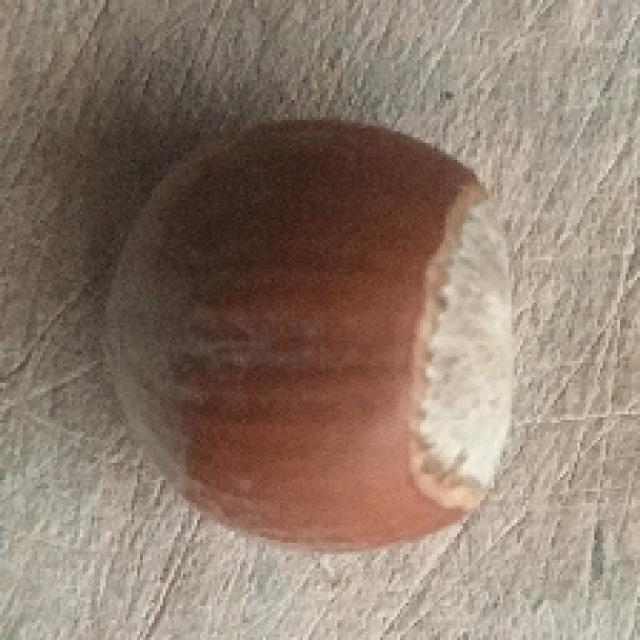QualityHazelnut: (99, 120, 524, 553)
